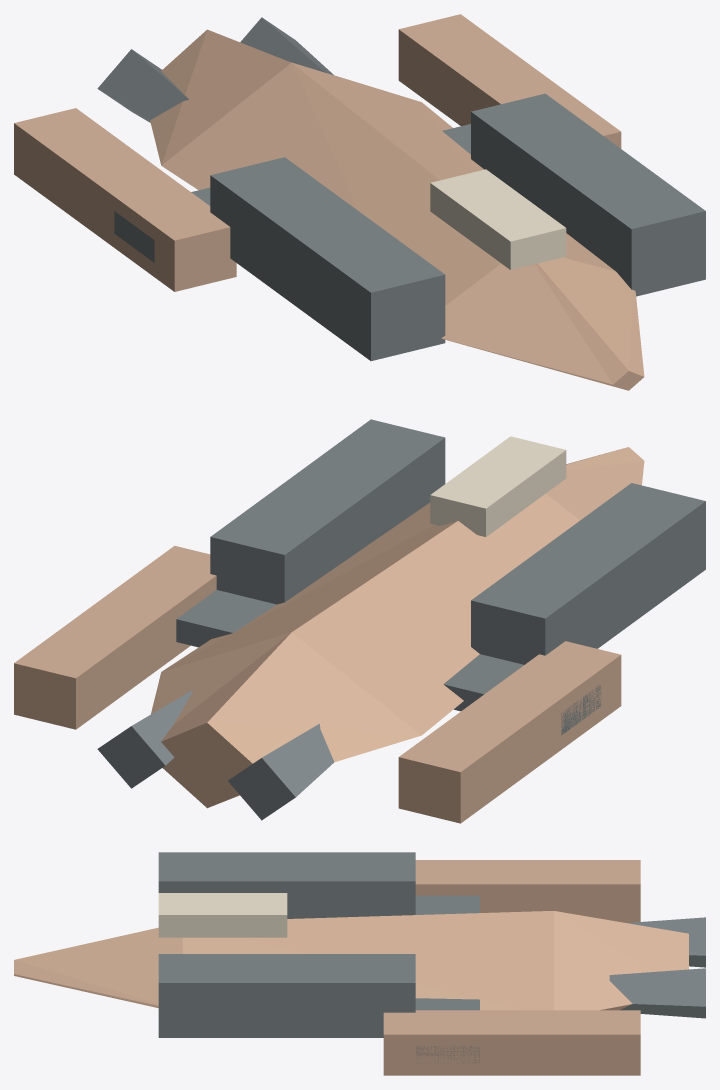
3 renders of one model, top to bottom at view 1: azimuth 30°, elevation 25°; view 2: azimuth 150°, elevation 25°; view 3: azimuth 270°, elevation 25°, orthographic. The views are drawn at different scales.
Bounding box in the file's own units: 2.62 × 0.848 × 4.39.
